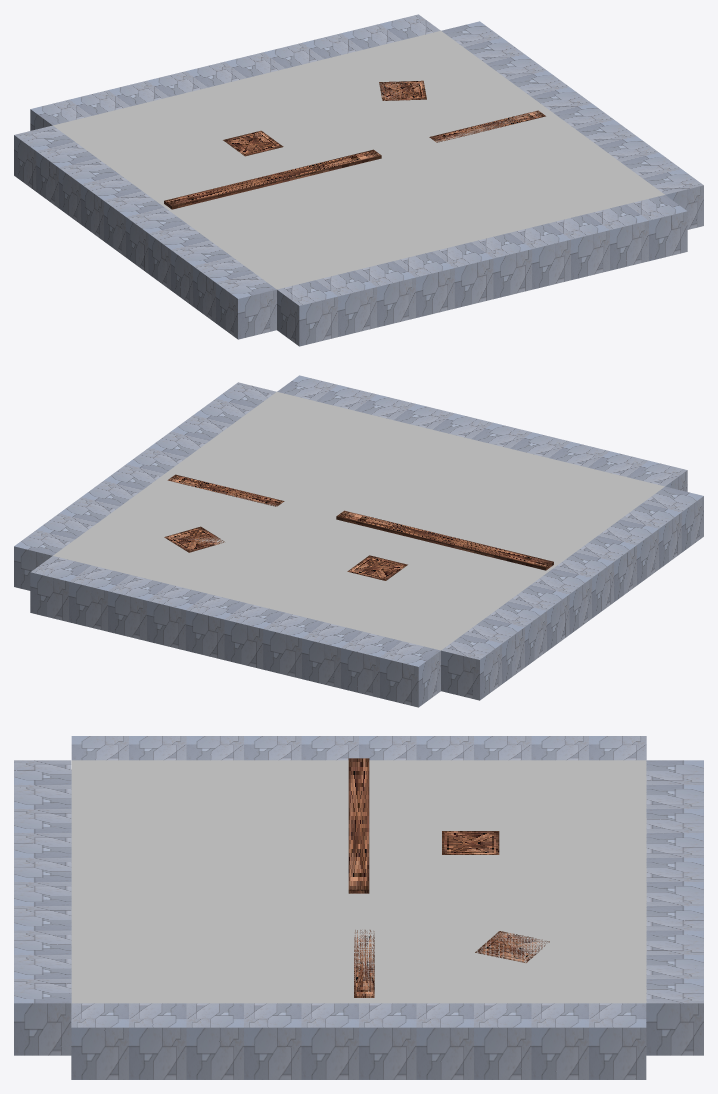
The picture shows the model from 3 angles, top to bottom: view 1: azimuth 30°, elevation 25°; view 2: azimuth 150°, elevation 25°; view 3: azimuth 270°, elevation 25°; orthographic projection. The views are drawn at different scales.
Visible parts, largest first — view 1: Ceiling, Wall.002, Wall.001, Wall.003, Wall.000, Box.000, Box.001, Box.003, Box.005; view 2: Ceiling, Wall.000, Wall.001, Wall.003, Wall.002, Box.000, Box.001, Box.003, Box.005; view 3: Ceiling, Wall.003, Wall.000, Wall.002, Wall.001, Box.000, Box.003, Box.005, Box.001.
Boxes of the visible parts, x1,y1,x2,y2 form: Ceiling: (53,31,664,289); Wall.002: (277,195,687,346); Wall.001: (14,125,276,339); Wall.003: (441,21,703,229); Wall.000: (30,14,440,130); Box.000: (164,149,381,209); Box.001: (429,110,545,142); Box.003: (223,130,283,156); Box.005: (379,80,426,100); Ceiling: (53,392,664,650); Wall.000: (30,556,440,707); Wall.001: (441,486,703,700); Wall.003: (14,382,276,590); Wall.002: (277,375,687,491); Box.000: (336,510,553,570); Box.001: (167,474,284,506); Box.003: (347,555,407,580); Box.005: (164,526,224,552); Ceiling: (71,760,646,1003); Wall.003: (71,1003,646,1079); Wall.000: (646,760,703,1055); Wall.002: (14,760,71,1055); Wall.001: (71,736,646,760); Box.000: (348,758,369,893); Box.003: (442,831,499,854); Box.005: (475,931,549,962); Box.001: (354,930,374,997).
Size of the model in its own units: 24 by 2.15 by 24.
